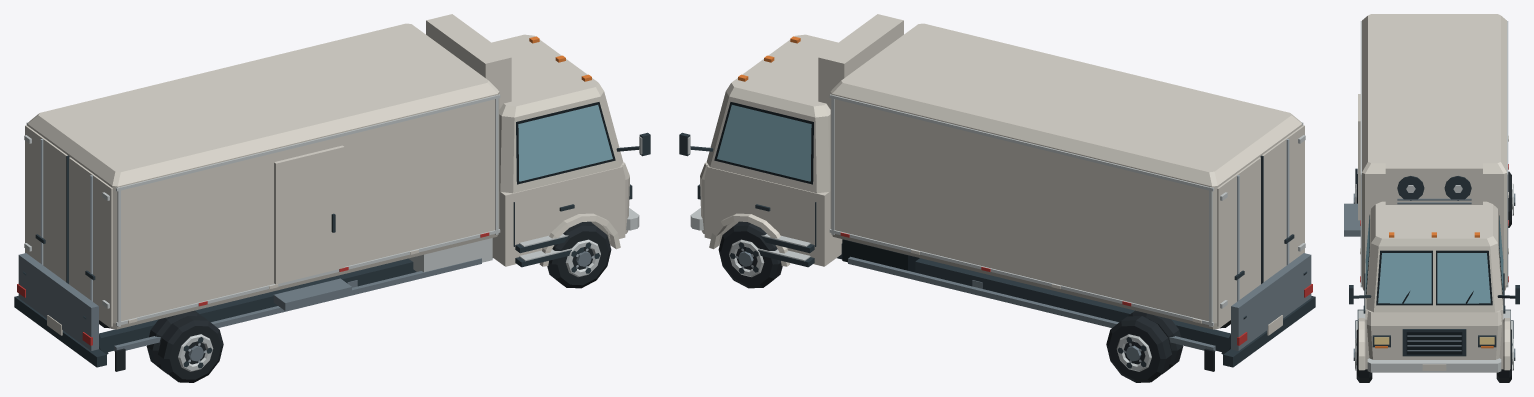
File: b15_refrigerated_delivery_truck.glb
The picture shows the model from 3 angles, left to right: view 1: azimuth 30°, elevation 25°; view 2: azimuth 150°, elevation 25°; view 3: azimuth 270°, elevation 25°; orthographic projection. The views are drawn at different scales.
Parts seen in each view (by area): view 1: b15_refrigerated_delivery_truck; view 2: b15_refrigerated_delivery_truck; view 3: b15_refrigerated_delivery_truck.
Boxes of the visible parts, x1,y1,x2,y2 form: b15_refrigerated_delivery_truck: [14, 14, 650, 382]; b15_refrigerated_delivery_truck: [679, 14, 1315, 382]; b15_refrigerated_delivery_truck: [1344, 14, 1519, 382].
Bounding box in the file's own units: 8.78 × 3.56 × 2.98.
